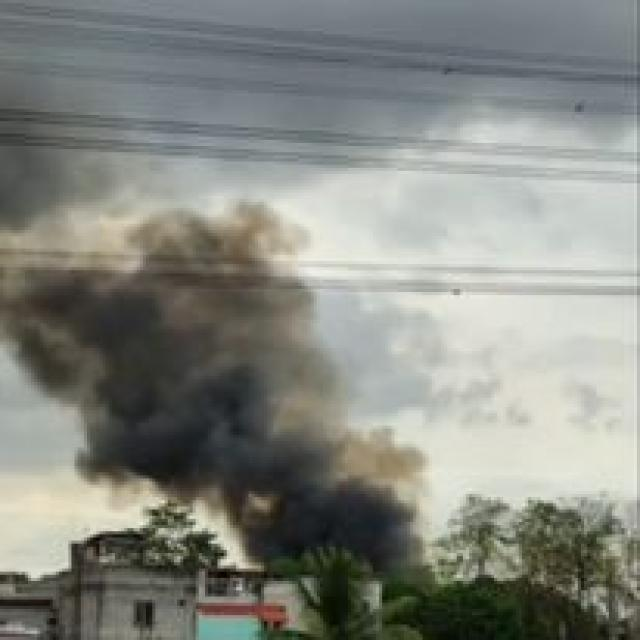Smoke: (40, 262, 338, 448), (220, 456, 456, 548)
